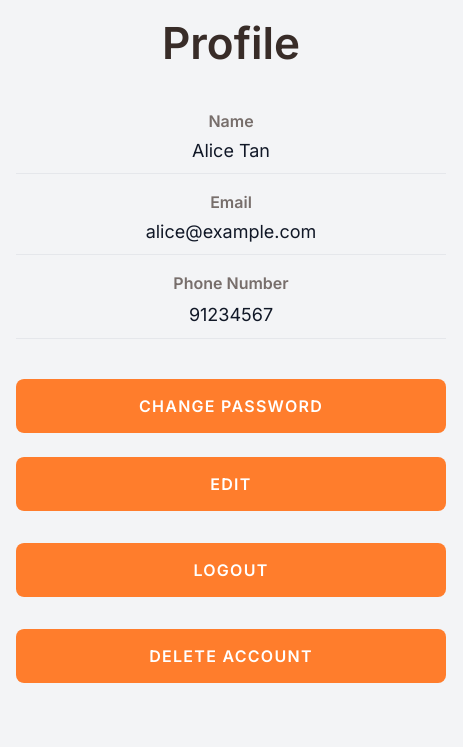
Scenario: Profile Page › updates name successfully and exits edit mode
Expected: the text "Profile" is shown, [162, 16, 300, 70]
Click the button "Edit". click: point(231, 484)
box: [16, 457, 446, 511]
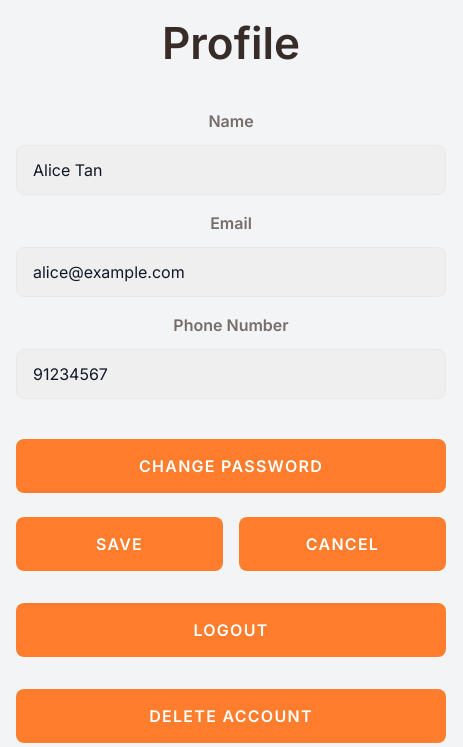
Replace the text in the field showing "Alice Tan" below "Name" with "Alice Lim". click: point(231, 170)
box: [16, 145, 446, 195]
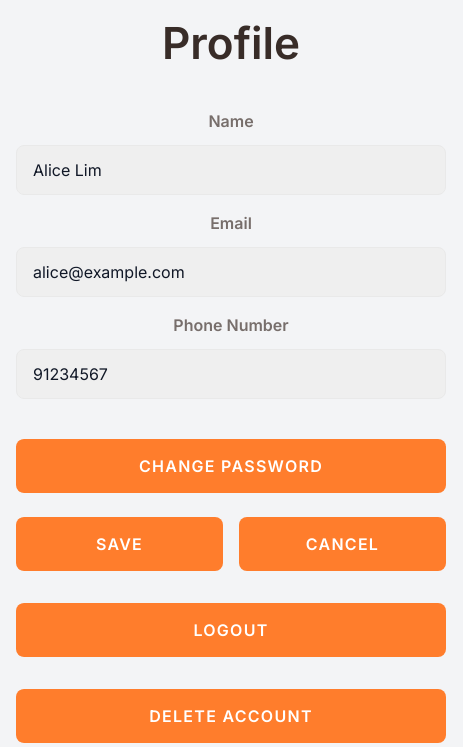
Click the button "Save". click: point(120, 544)
box: [16, 517, 223, 571]
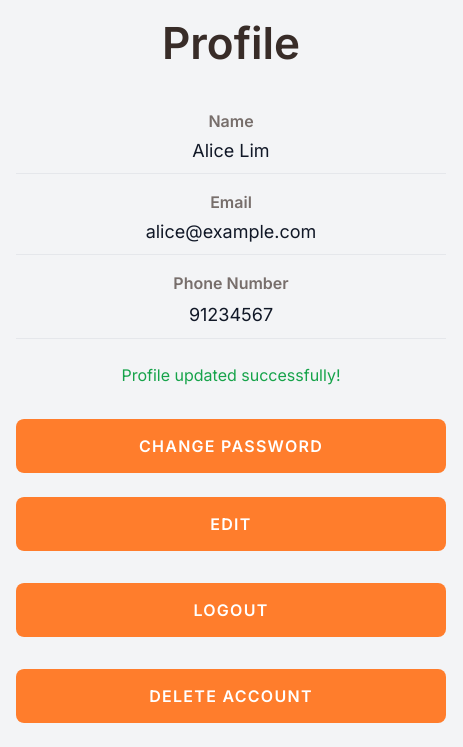
Result: the text "Profile updated successfully!" is shown at [122, 365, 340, 385]
Result: the text "Alice Lim" is shown at [16, 137, 446, 174]
Result: the button "Save" is gone
